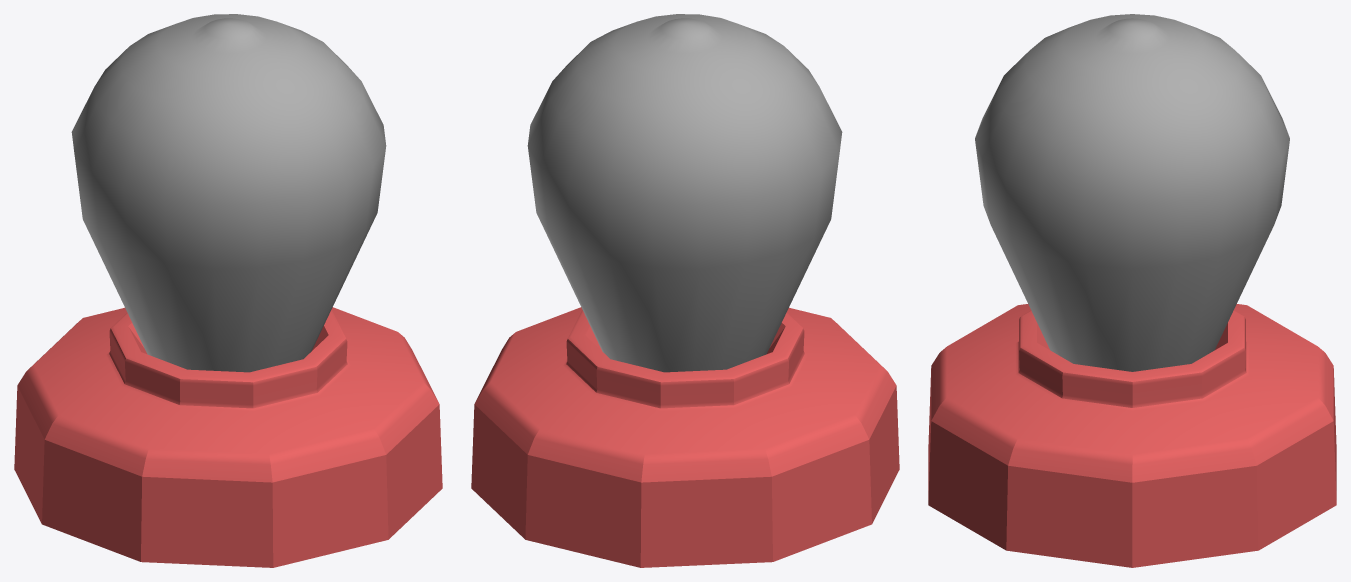
The model's file is mshLightSmart.fbx.
3 views of the same model, side by side, from view 1: azimuth 30°, elevation 25°; view 2: azimuth 150°, elevation 25°; view 3: azimuth 270°, elevation 25° (orthographic).
Parts seen in each view (by area): view 1: bombilla; view 2: bombilla; view 3: bombilla.
Part boxes in pixels (bbox=[...]): bombilla: bbox=[14, 14, 442, 567]; bombilla: bbox=[471, 14, 899, 567]; bombilla: bbox=[928, 14, 1336, 567].
Bounding box in the file's own units: 65.71 × 76.56 × 62.5.
